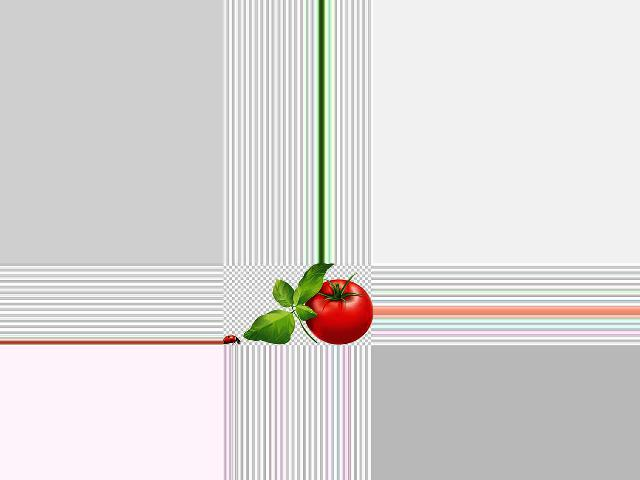tomato: (304, 279, 372, 344)
